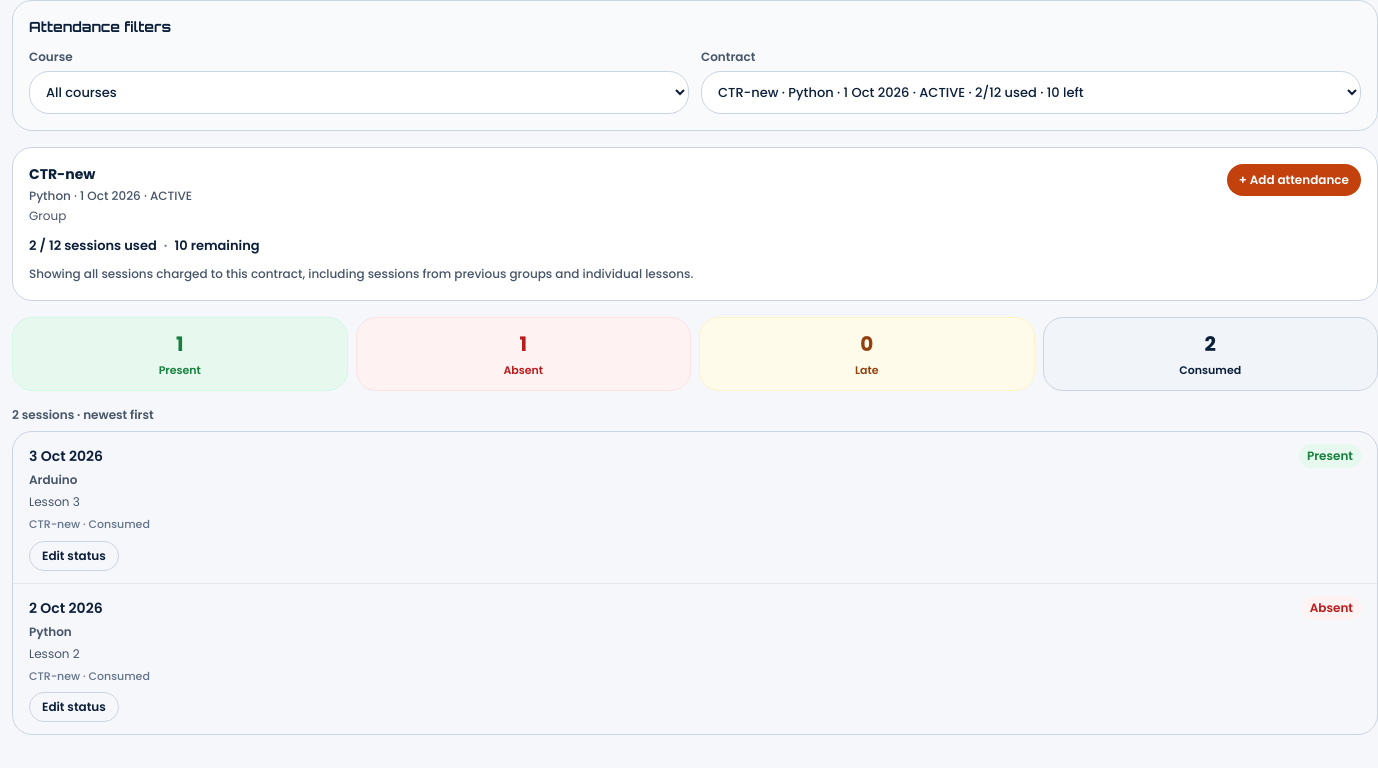
Test: student attendance selection › switches between old/new contracts and course history without another network request
Expected: the text "Lesson 2" is shown, 29,644 -> 80,662
Expected: the text "Lesson 3" is shown, 29,493 -> 80,510
Select "CTR-old · Python · 1 Oct 2026 · COMPLETED · 2/12 used · 10 left" in the dropdown named "Attendance contract": x=1031, y=92 701,71 -> 1361,114
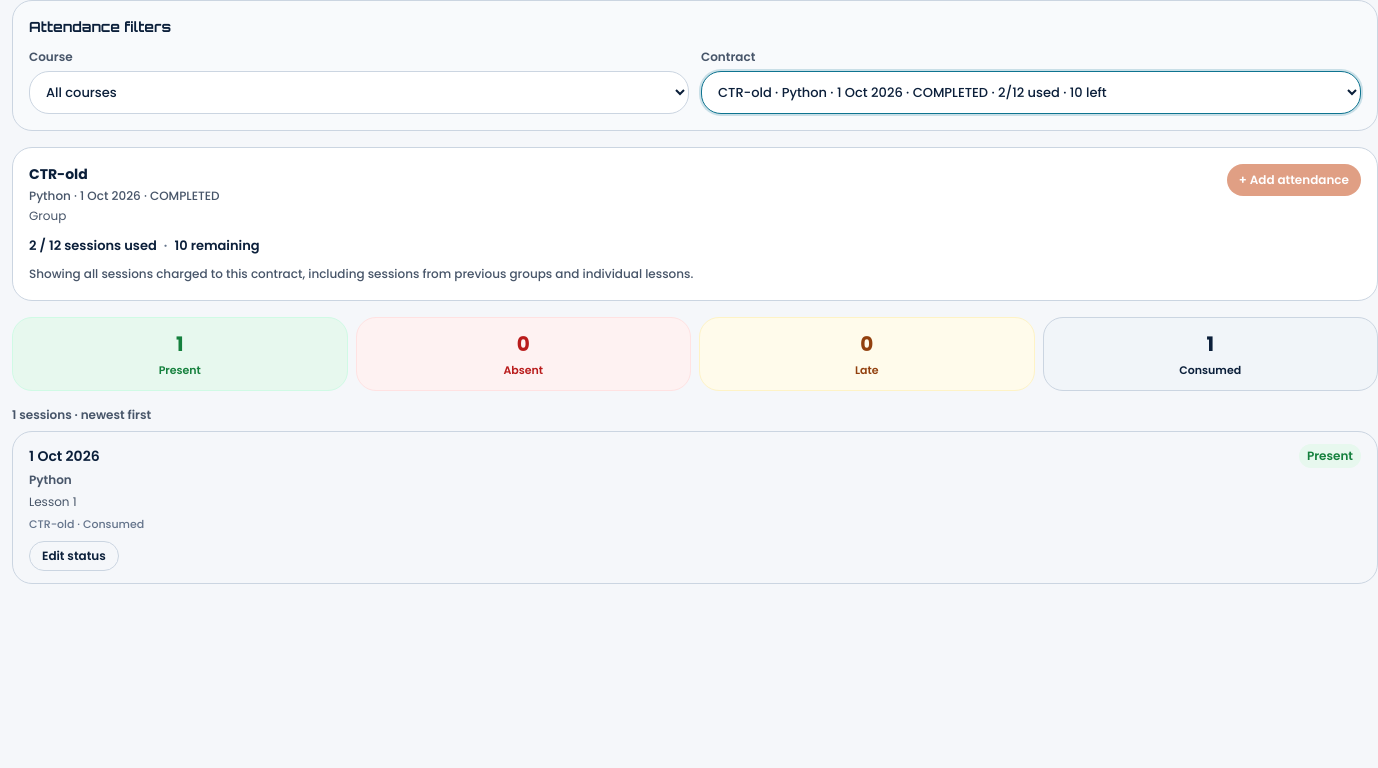
Expected: the text "Lesson 1" is shown, 29,493 -> 77,510
Expected: the text "Lesson 2" is gone
Expected: the button "+ Add attendance" is disabled, 1227,164 -> 1361,196
Select "Arduino" in the dropdown named "Attendance course": x=359, y=92 29,71 -> 689,114
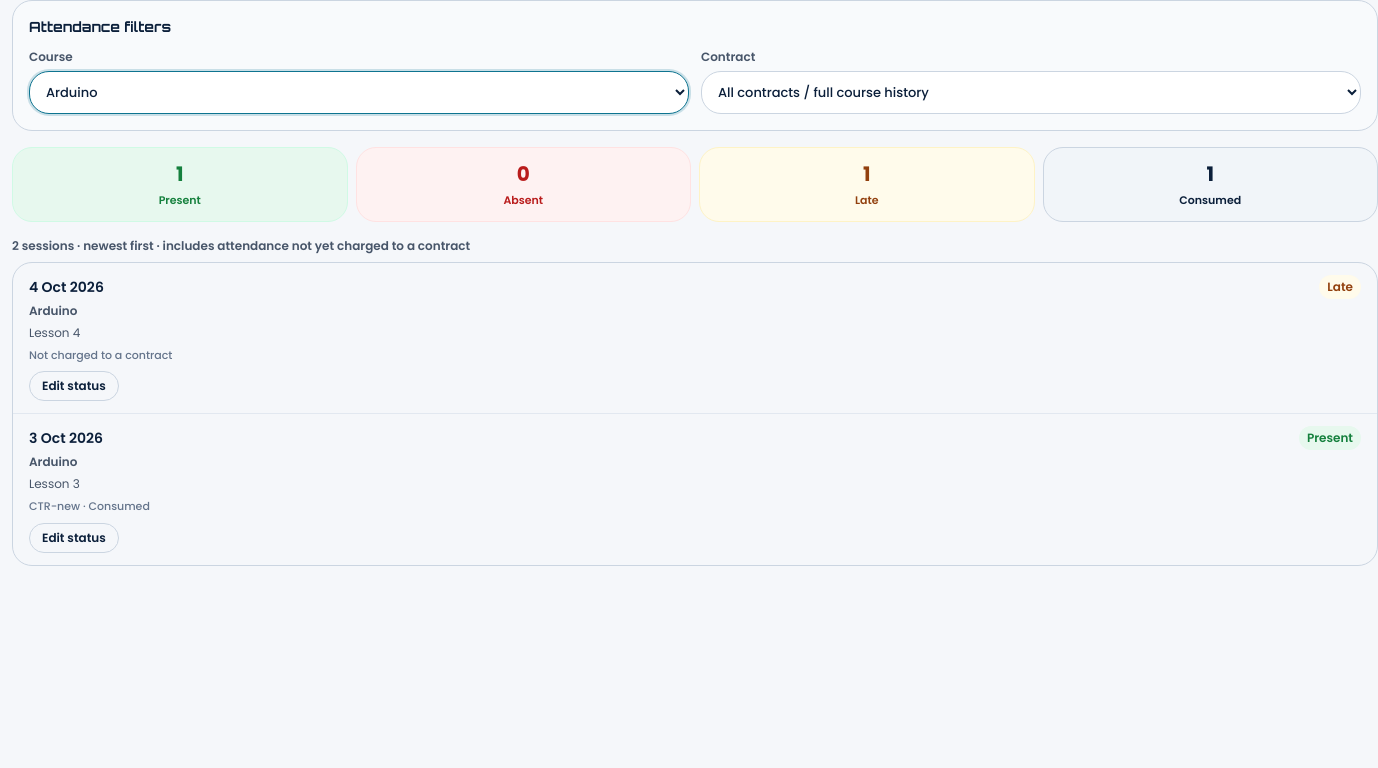
Expected: the text "Lesson 3" is shown, 29,475 -> 80,492
Expected: the text "Lesson 4" is shown, 29,324 -> 80,340
Expected: the text "Lesson 1" is gone
